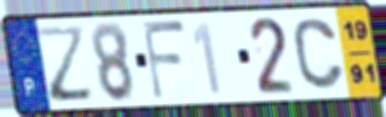1: (191, 20, 222, 96)
2: (247, 14, 296, 97)
8: (89, 19, 137, 105)
C: (290, 15, 347, 92)
F: (139, 18, 189, 102)
Z: (34, 23, 97, 104)
